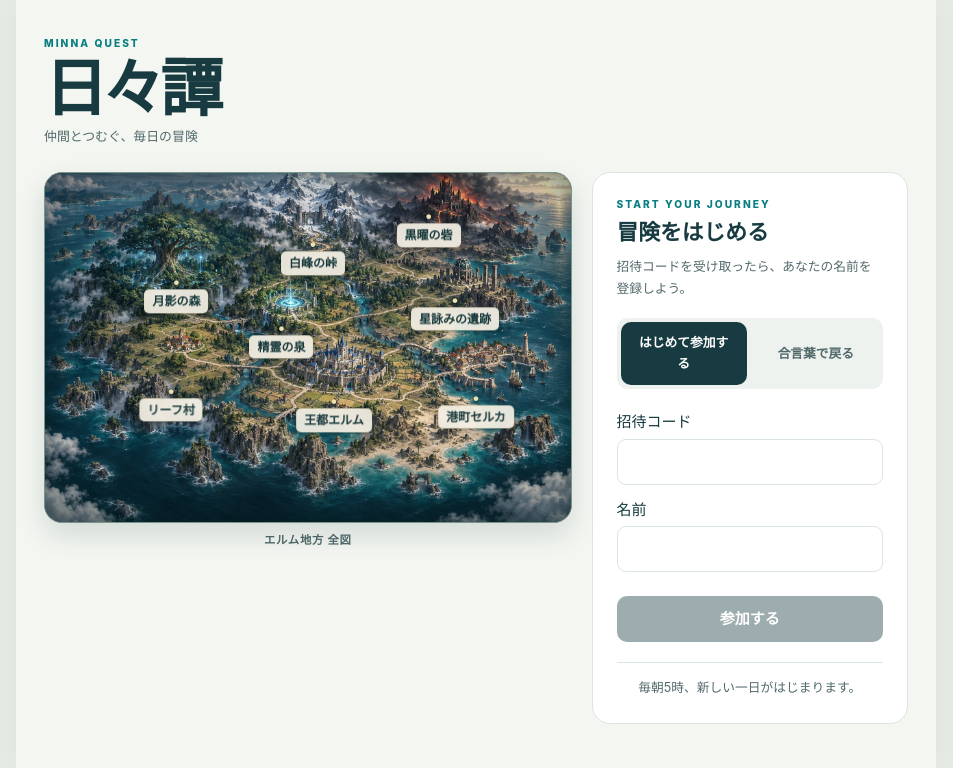
it: 合言葉で戻る › 通らない合言葉では入れず、保存もしない
Click the button "合言葉で戻る": (816, 353) [753,322,879,385]
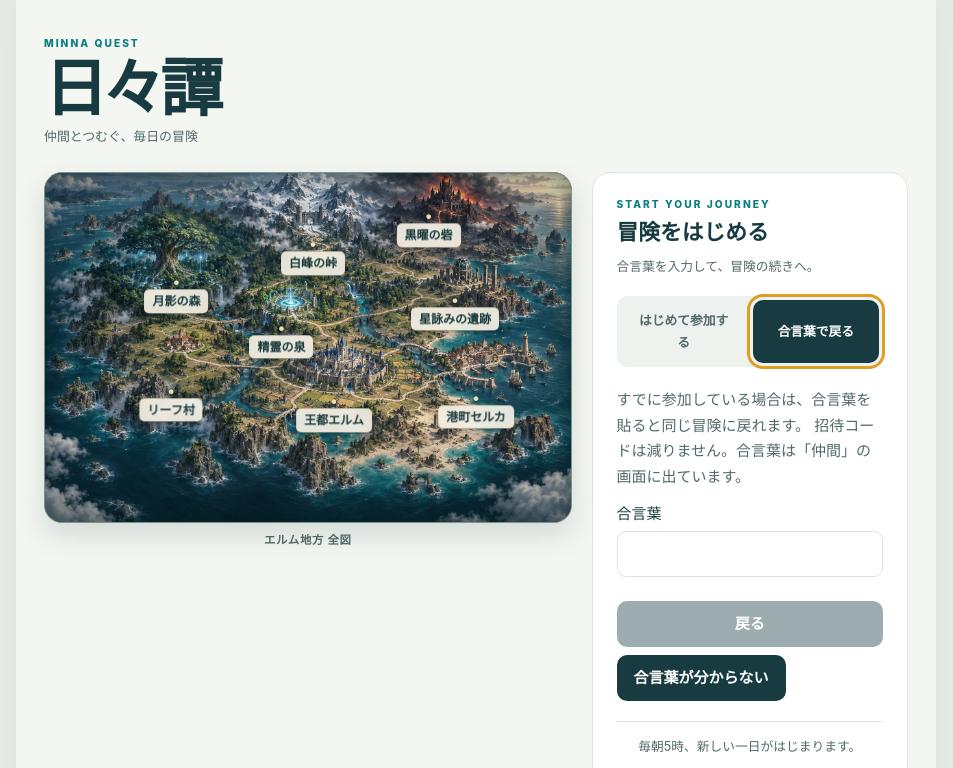
In the field labelled "合言葉": (750, 554) [616,531,883,577], type "wrong"
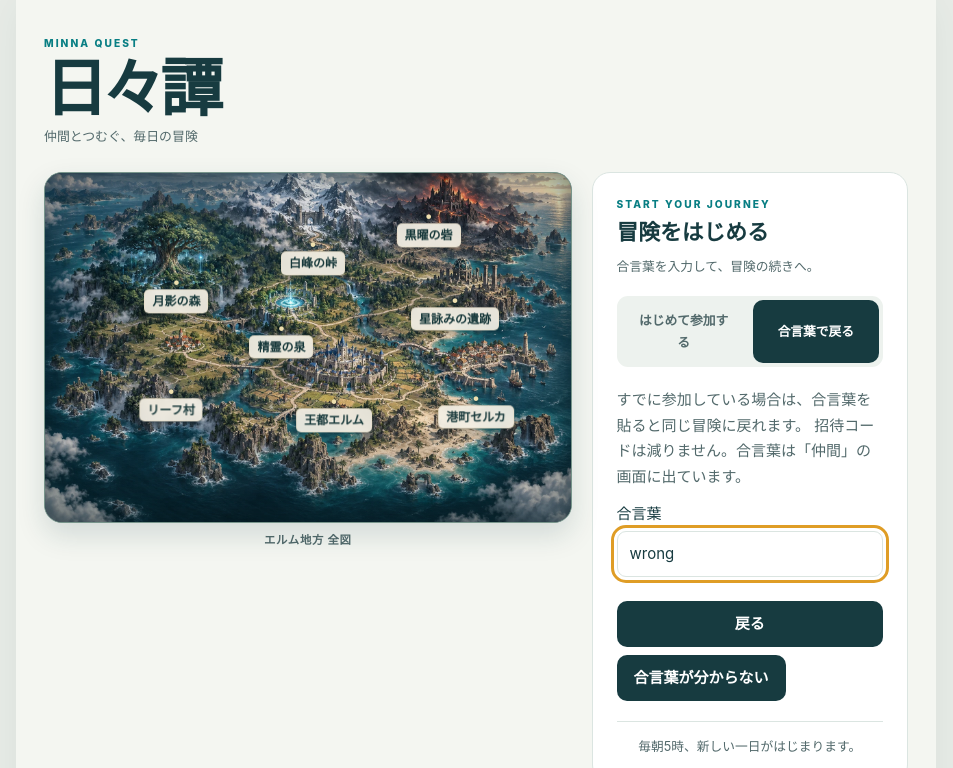
Click the button "戻る": (750, 624) [616,601,883,647]
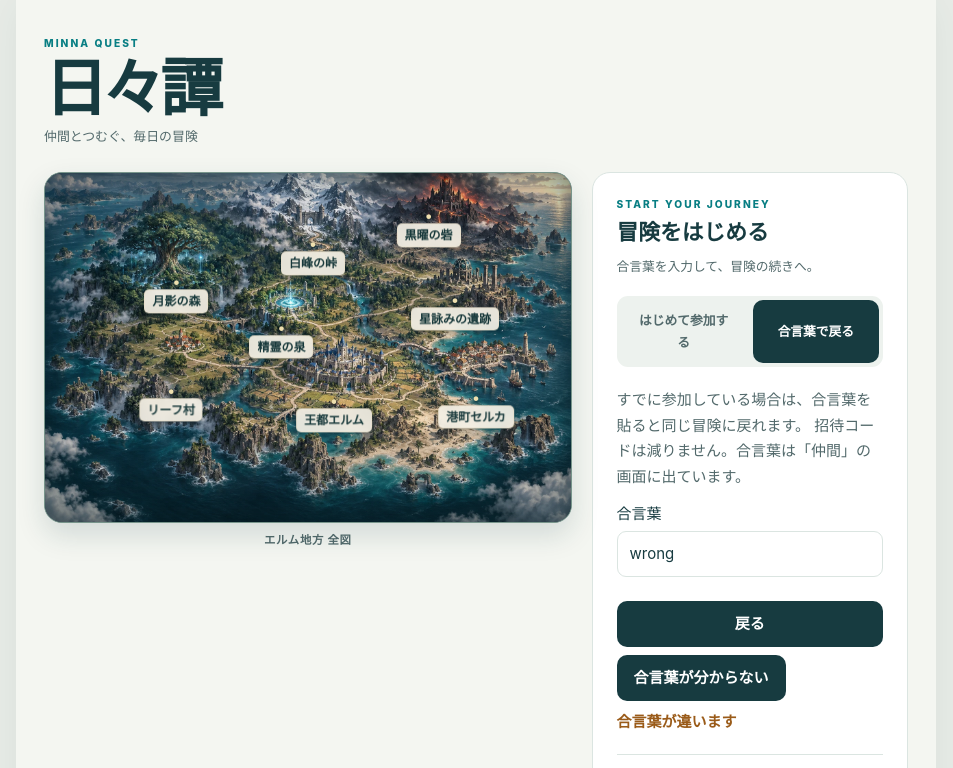
Expected: the text "合言葉が違います" is shown, [616,712,736,731]
